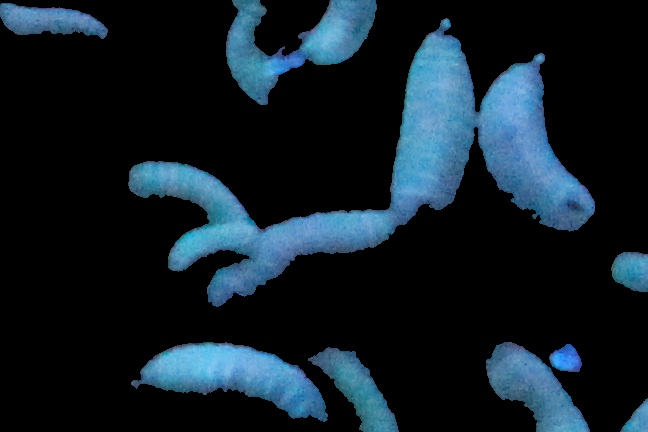larvae: (478, 60, 596, 234), (204, 212, 396, 311), (392, 23, 472, 229), (139, 344, 324, 421), (486, 337, 592, 432), (129, 158, 252, 228), (309, 347, 397, 432), (222, 1, 283, 110), (167, 223, 259, 274), (303, 1, 377, 64), (1, 1, 110, 40)
